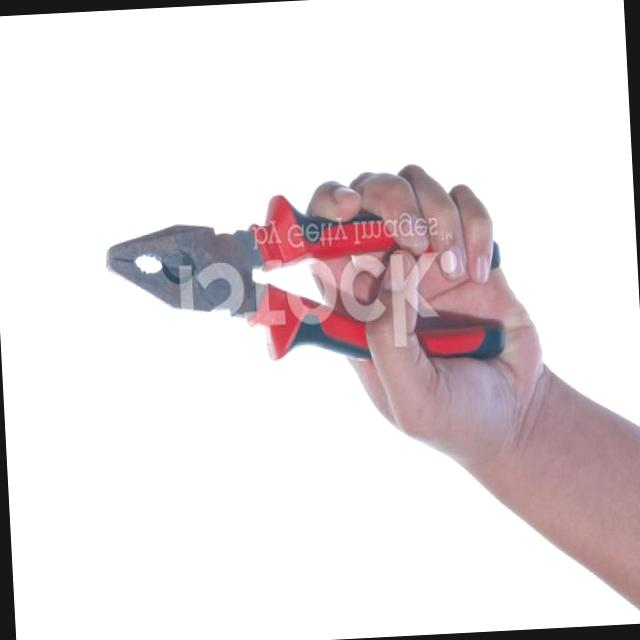pliers: (107, 196, 395, 360), (416, 317, 505, 359)
